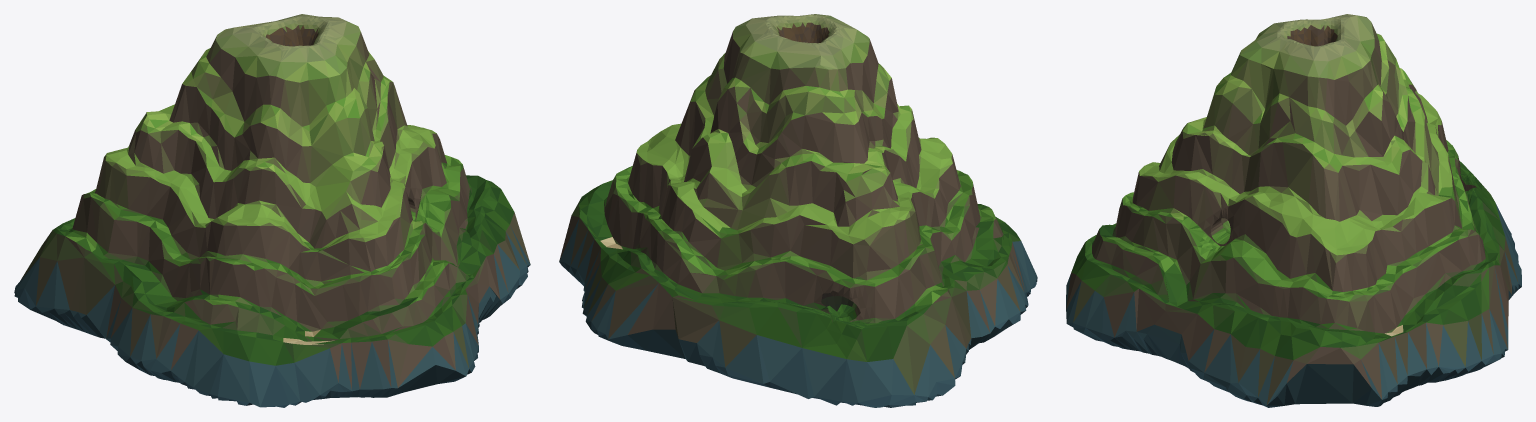
File: low_poly_nest_mountain.glb
The picture shows the model from 3 angles, left to right: view 1: azimuth 30°, elevation 25°; view 2: azimuth 150°, elevation 25°; view 3: azimuth 270°, elevation 25°; orthographic projection.
Parts seen in each view (by area): view 1: NestMountain; view 2: NestMountain; view 3: NestMountain.
Part boxes in pixels (<box>): NestMountain: <box>14,14,530,407</box>; NestMountain: <box>559,14,1037,407</box>; NestMountain: <box>1066,14,1521,407</box>.
Bounding box in the file's own units: 97.21 × 61.93 × 90.5.
